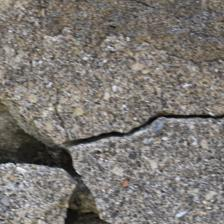Crack: (37, 53, 187, 101)
